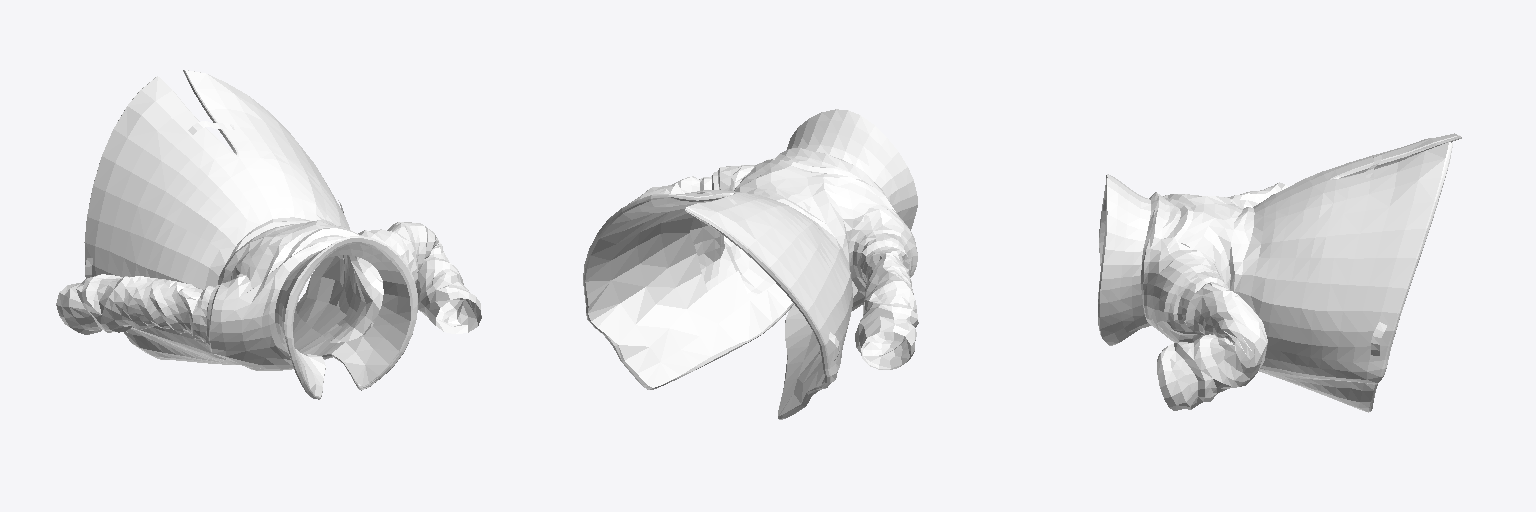
File: vivi1.obj
3 views of the same model, side by side, from view 1: azimuth 30°, elevation 25°; view 2: azimuth 150°, elevation 25°; view 3: azimuth 270°, elevation 25° (orthographic).
Bounding box in the file's own units: 1.55 × 1.04 × 1.43.